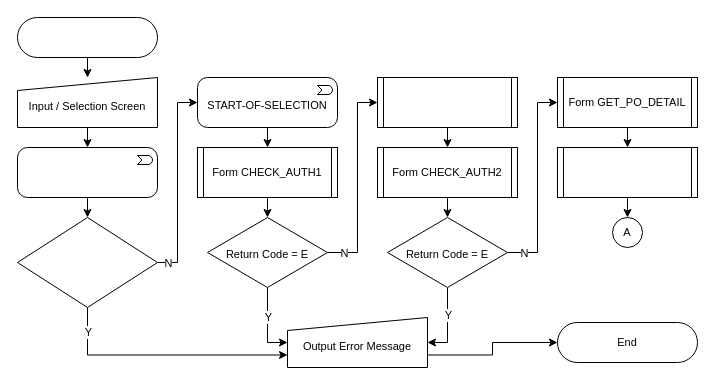
Image size: 715x385. Some labels were removed from this diagram. Each missing label, with the box of its shape:
AT SELECTION-SCREEN: (16, 146, 158, 198)
CHECK P_SAVE <> SPACE & OUTFILE = SPACE: (16, 216, 158, 308)
Form GET_REFNO_ PURGRPLIST: (556, 146, 698, 198)
Form SELECT_PO: (376, 76, 518, 128)
Start: (16, 16, 158, 58)
